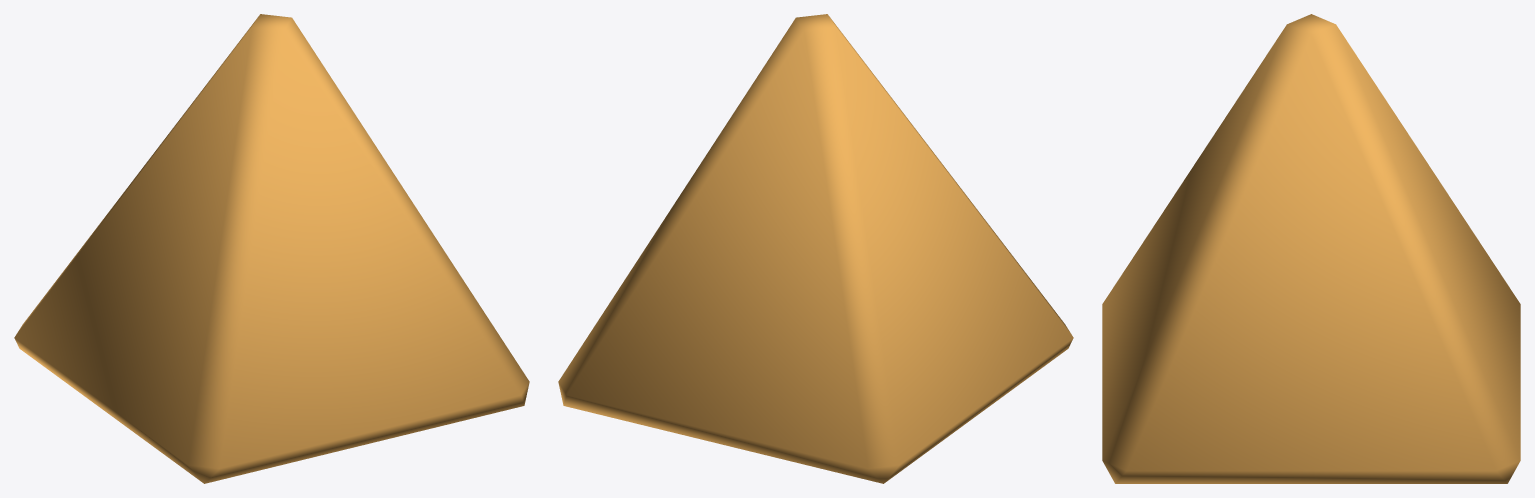
The picture shows the model from 3 angles, left to right: view 1: azimuth 30°, elevation 25°; view 2: azimuth 150°, elevation 25°; view 3: azimuth 270°, elevation 25°; orthographic projection. The views are drawn at different scales.
Parts seen in each view (by area): view 1: Pyramid_4P; view 2: Pyramid_4P; view 3: Pyramid_4P.
Boxes of the visible parts, x1,y1,x2,y2 form: Pyramid_4P: (14, 14, 529, 483); Pyramid_4P: (558, 14, 1073, 483); Pyramid_4P: (1102, 14, 1520, 483).
Size of the model in its own units: 277 by 275 by 277.
